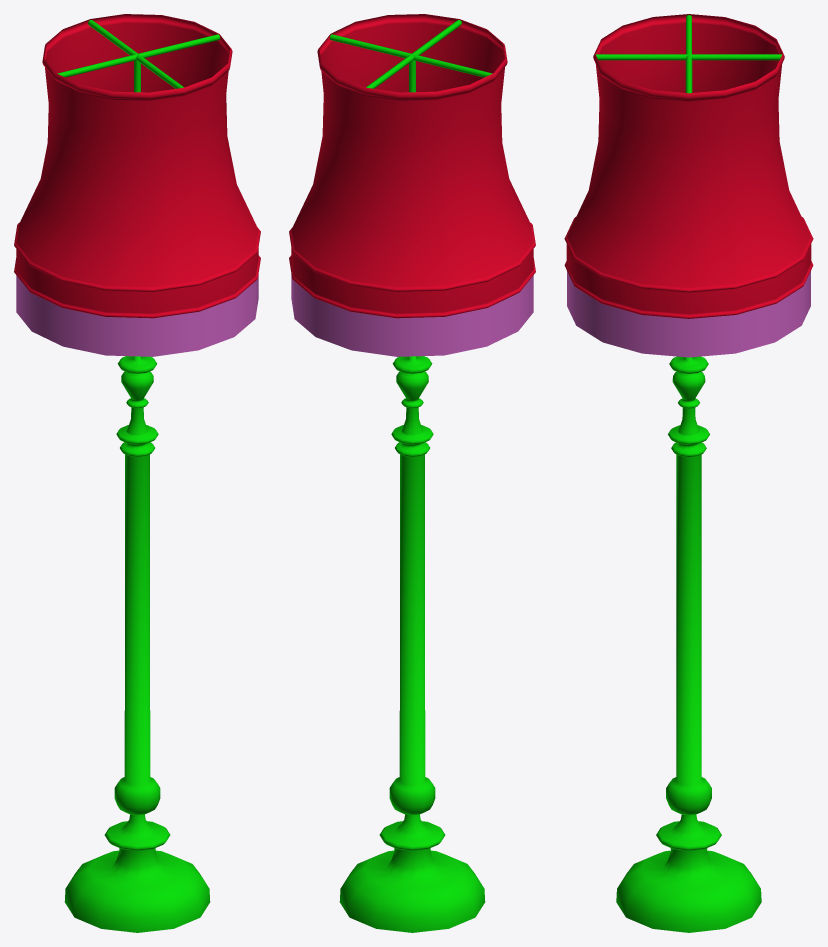
File: SM_Lamp.fbx
3 views of the same model, side by side, from view 1: azimuth 30°, elevation 25°; view 2: azimuth 150°, elevation 25°; view 3: azimuth 270°, elevation 25° (orthographic).
Parts seen in each view (by area): view 1: SM_Lamp; view 2: SM_Lamp; view 3: SM_Lamp.
Boxes of the visible parts, <box> form: SM_Lamp: <box>14,14,260,932</box>; SM_Lamp: <box>289,14,535,932</box>; SM_Lamp: <box>564,14,813,932</box>.
Size of the model in its own units: 39.89 by 150 by 39.89.
